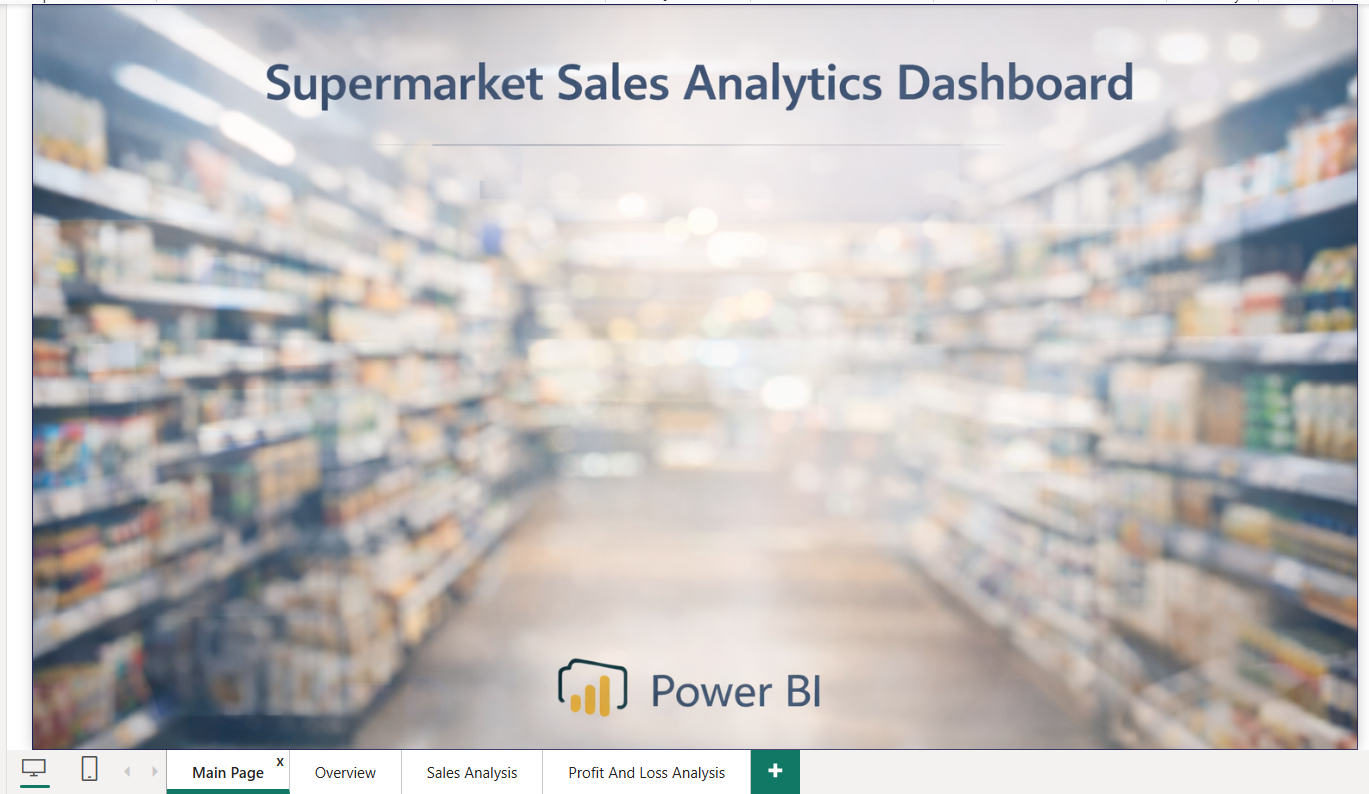

This screenshot's page, from the dashboard's own definition file:
{"tool":"powerbi","page":{"name":"Main Page","canvas":[1280,720],"ordinal":0},"visuals":[{"type":"shape","box":[0,0,1280,720.2],"z":4500}]}

Visuals, with their boxes on the page's 1280x720 design canvas (x1, y1, x2, y2). These are canvas units, not pixel positions in the 1369x794 screenshot, which may show the page scaled, cropped or inside an application window:
shape: 0, 0, 1280, 720
